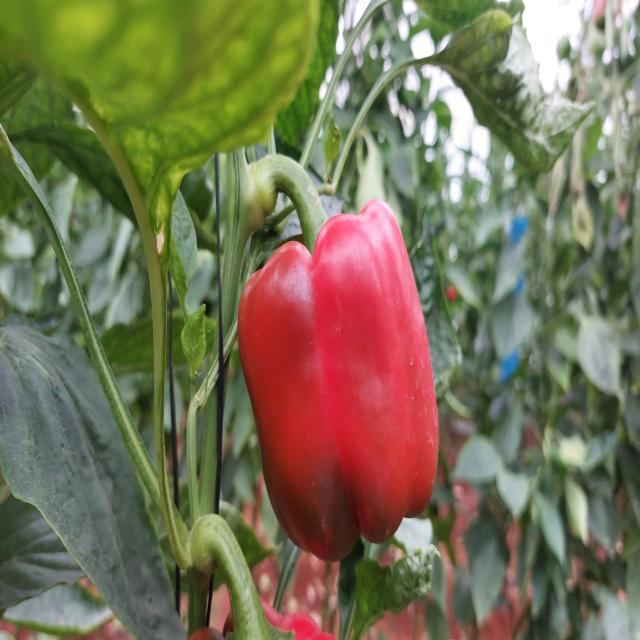Red-Ready-to-Harvest: (231, 209, 461, 575)
